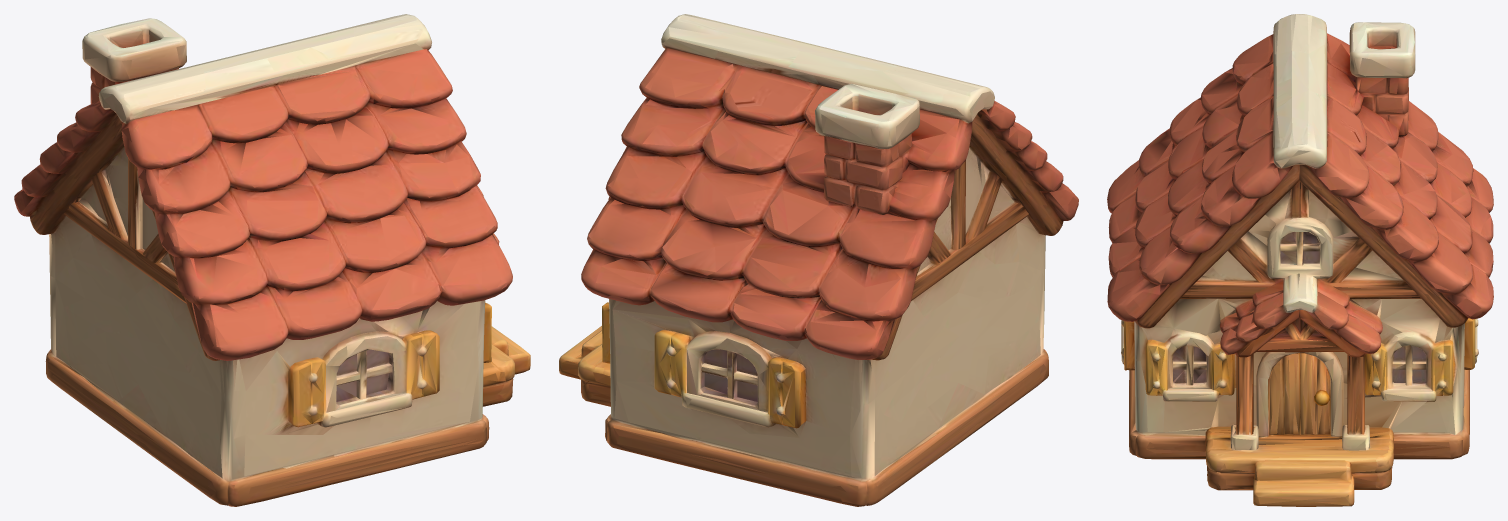
3 renders of one model, left to right at view 1: azimuth 30°, elevation 25°; view 2: azimuth 150°, elevation 25°; view 3: azimuth 270°, elevation 25°, orthographic. The views are drawn at different scales.
Visible parts, largest first — view 1: F13a-house-amber; view 2: F13a-house-amber; view 3: F13a-house-amber.
Part boxes in pixels (left/top/right/bottom): F13a-house-amber: left=14, top=14, right=530, bottom=506; F13a-house-amber: left=559, top=14, right=1078, bottom=506; F13a-house-amber: left=1107, top=14, right=1493, bottom=506.
Bounding box in the file's own units: 4.62 × 4 × 4.29.
Materials: 1 (1 with a texture image).
